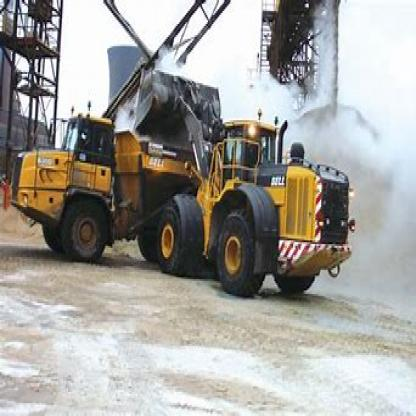bull_dozer/loader/grader: (131, 58, 364, 304)
